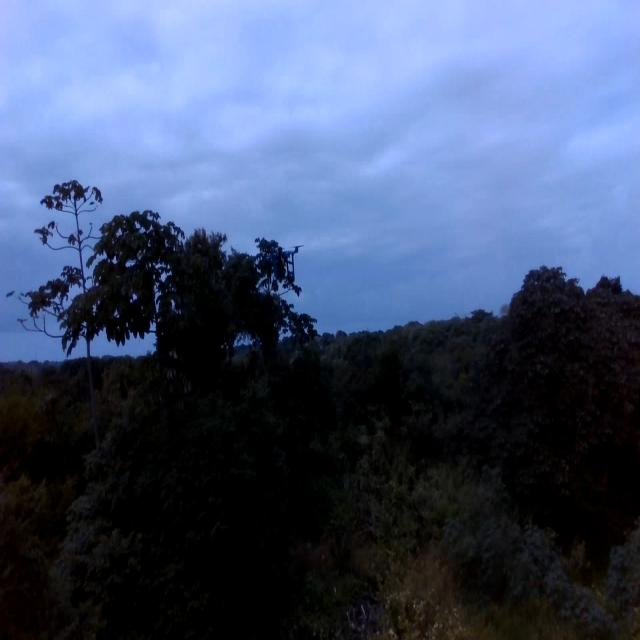-uav-: (251, 218, 311, 293)
